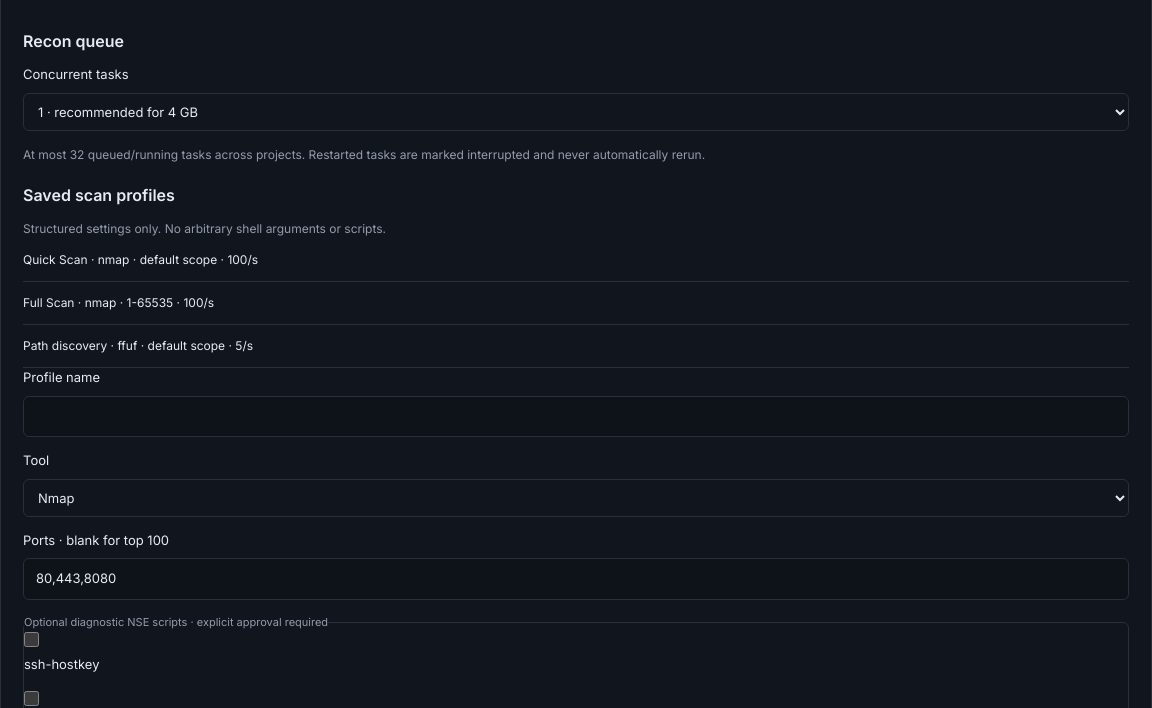
Test: persists queue concurrency and exposes API errors
The image size is (1152, 708).
Check: the text "Quick Scan · nmap · default scope · 100/s" is shown, box top-left (23, 251), bottom-right (258, 269)
Select "2" in the dropdown labelled "Concurrent tasks". click: point(576, 112)
box: top-left (23, 92), bottom-right (1129, 130)
Type "Custom" into the field labelled "Profile name". click: point(576, 417)
box: top-left (23, 396), bottom-right (1129, 437)
(page scrolled)
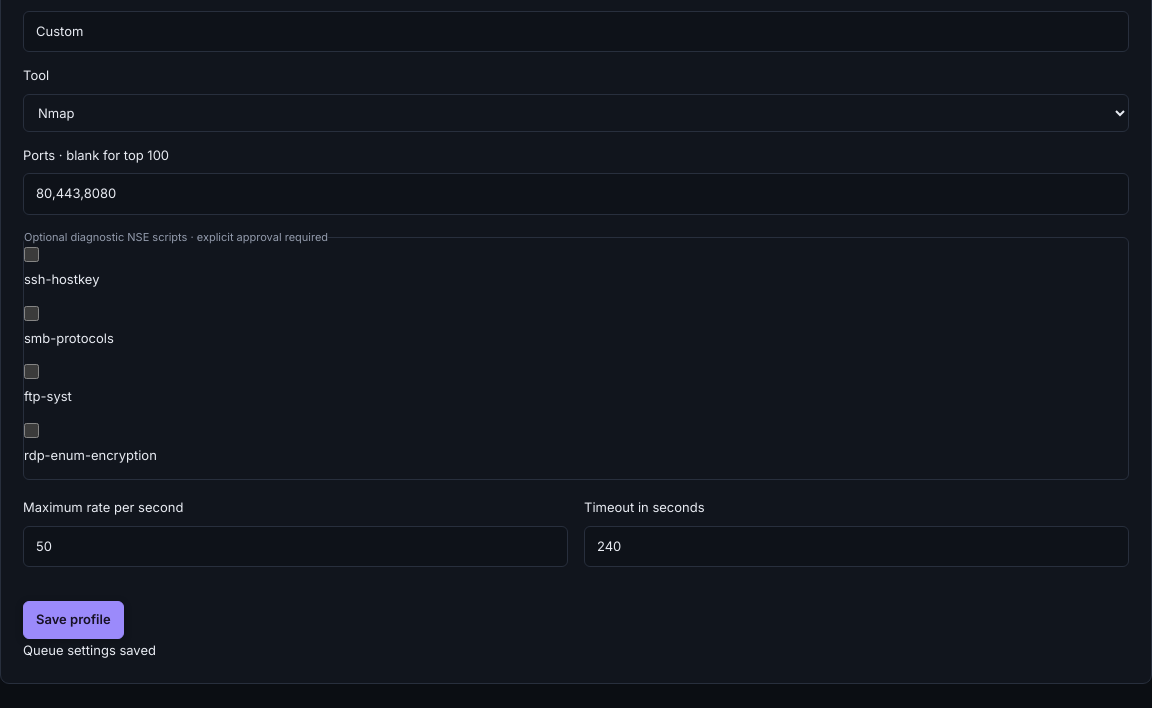
Click the button "Save profile". click: point(73, 620)
box: top-left (23, 601), bottom-right (124, 639)
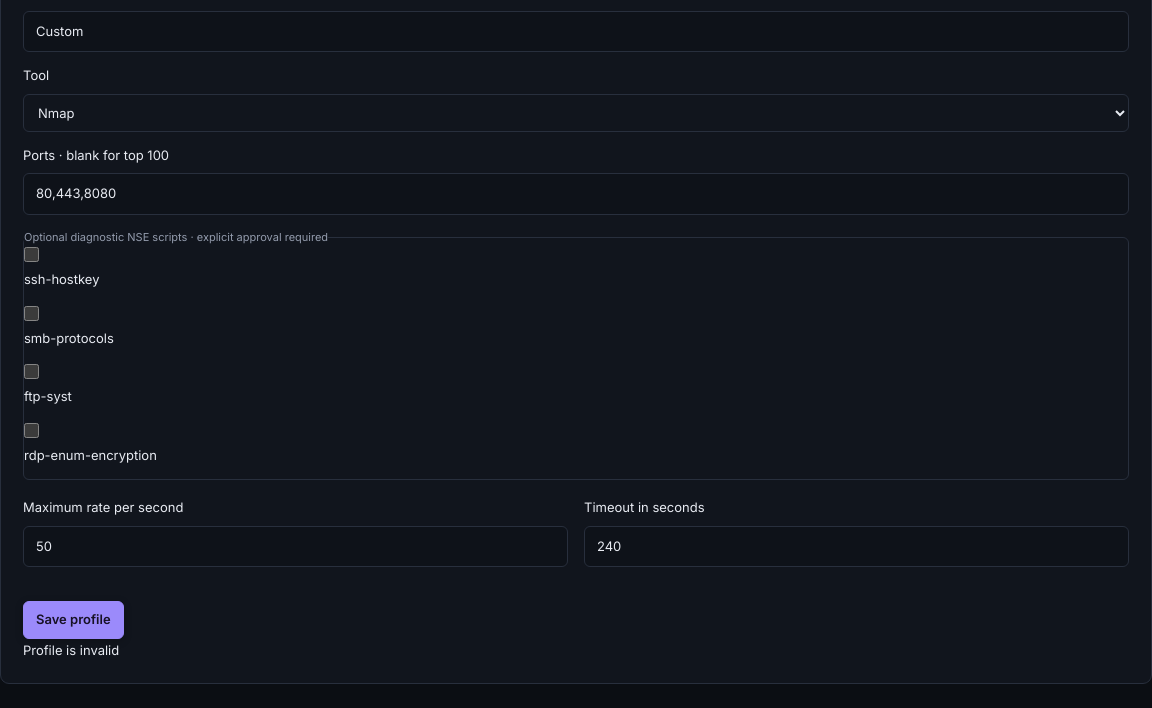
Check: the message reads "Profile is invalid", box top-left (23, 642), bottom-right (119, 658)
